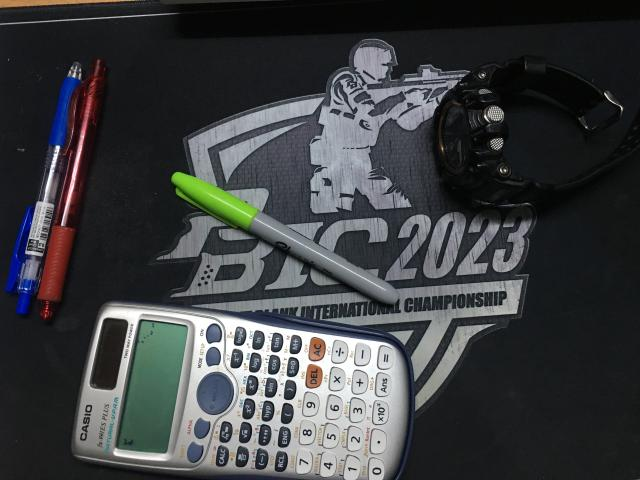Pen: (171, 172, 399, 304), (7, 59, 107, 324)
Watch: (435, 55, 640, 205)
